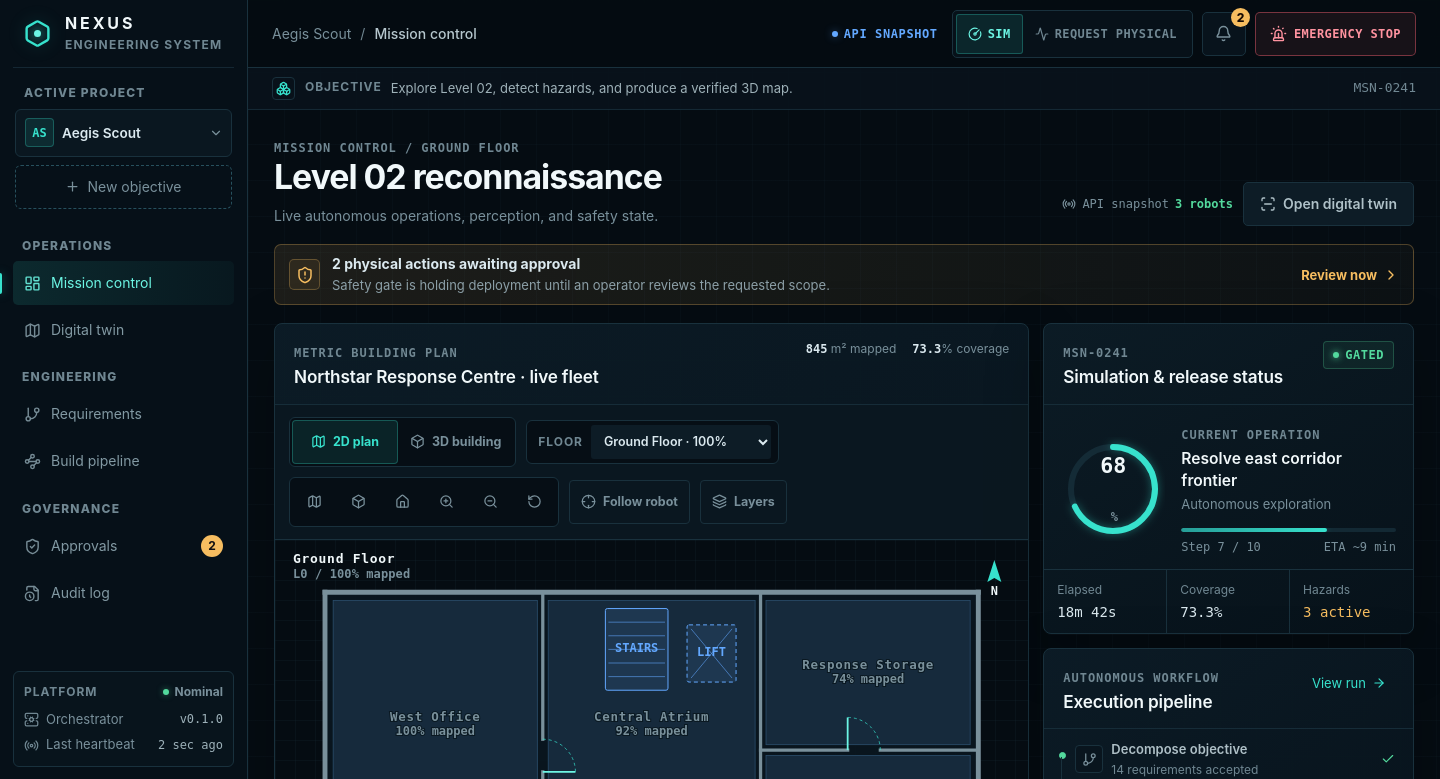
Test: NEXUS operations console › keeps the mission unchanged and the stop dialog open when E-stop fails
The width and height of the screenshot is (1440, 779).
Expected: the text "API SNAPSHOT" is shown, left=827, top=26, right=943, bottom=40
What coordinates should you click on to do the following:
click the button with aria-label "Request emergency stop"
I would click on:
 (1336, 34)
Its box is left=1255, top=12, right=1416, bottom=56.
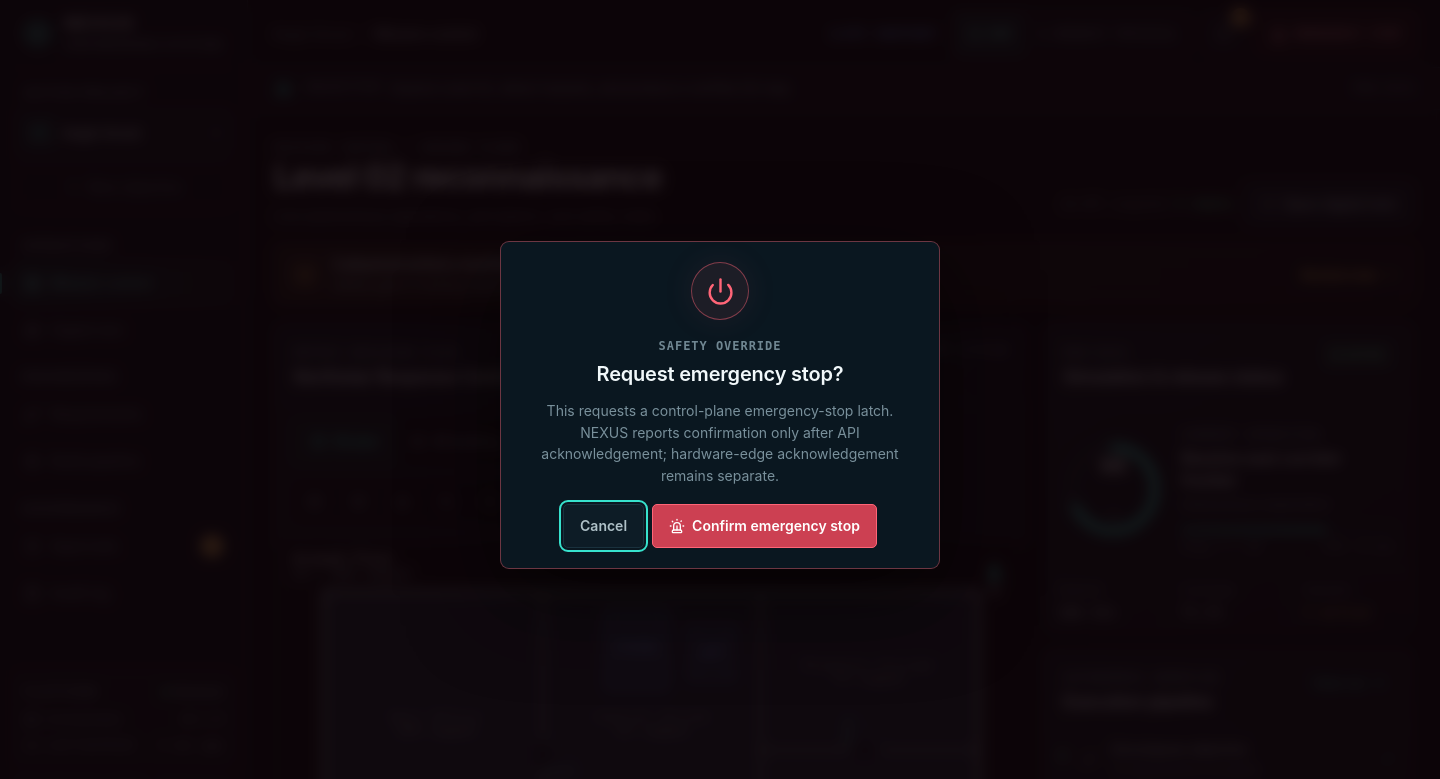
What coordinates should you click on to do the following:
click the button with aria-label "Confirm emergency stop request"
I would click on:
 (765, 526)
Its box is left=652, top=504, right=877, bottom=548.
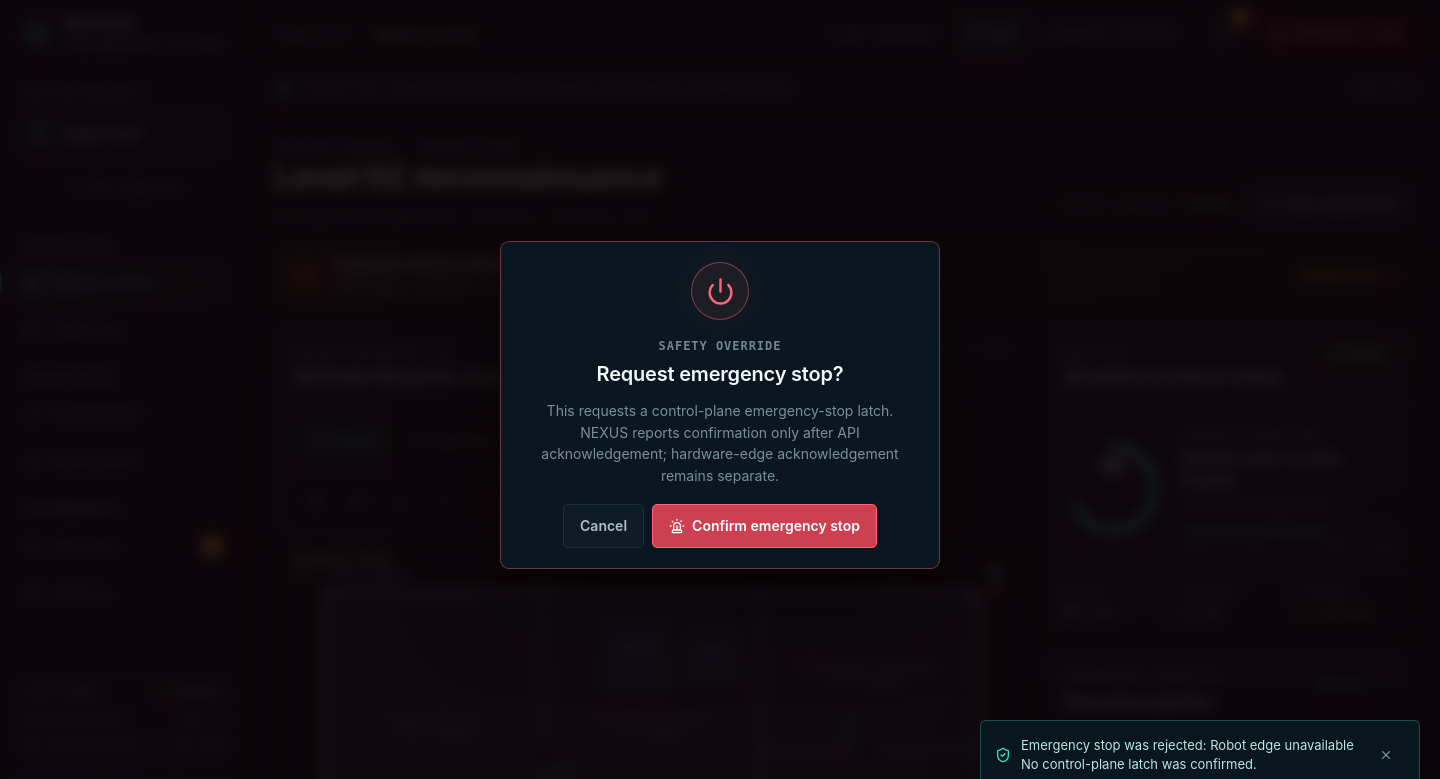
Now the dialog is shown, box left=500, top=241, right=940, bottom=569
Now the button with aria-label "Confirm emergency stop request" is enabled, box left=652, top=504, right=877, bottom=548
Now the text "No control-plane latch was confirmed" is shown, box left=1021, top=737, right=1354, bottom=772
